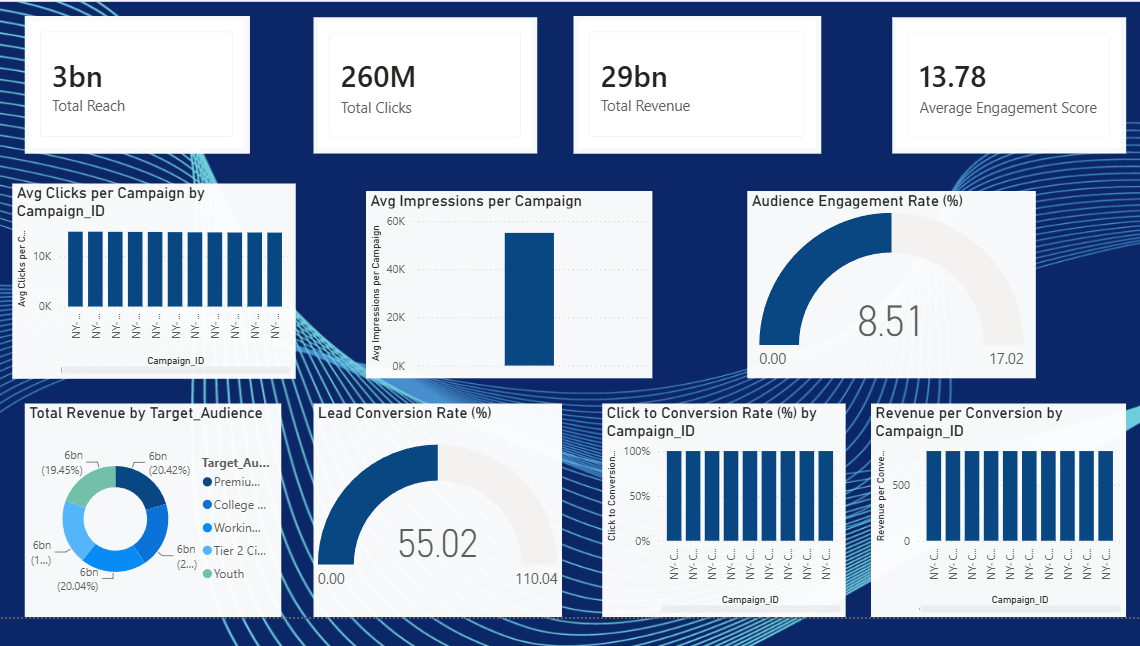

The dashboard page shown, as its layout file describes it:
{"tool":"powerbi","page":{"name":"platform dashboard","canvas":[1280,720],"ordinal":2},"visuals":[{"type":"cardVisual","fields":{"Data":["nykaa_campaign_data.Total Reach"]},"box":[37,60.4,247,150.9],"z":0},{"type":"cardVisual","fields":{"Data":["nykaa_campaign_data.Total Clicks"]},"box":[354,61.7,245.6,149.6],"z":1000},{"type":"cardVisual","fields":{"Data":["nykaa_campaign_data.Total Revenue"]},"box":[639.5,60.4,271.7,150.9],"z":2000},{"type":"cardVisual","fields":{"Data":["nykaa_campaign_data.Average Engagement Score"]},"box":[989.4,61.7,256.6,149.6],"z":3000},{"type":"clusteredColumnChart","fields":{"Category":["nykaa_campaign_data.Campaign_ID"],"Y":["nykaa_campaign_data.Avg Clicks per Campaign"]},"box":[23.3,244.3,311.5,214.1],"z":5000},{"type":"clusteredColumnChart","fields":{"Y":["nykaa_campaign_data.Avg Impressions per Campaign"]},"box":[411.7,252.5,314.2,205.8],"z":6000},{"type":"gauge","fields":{"Y":["nykaa_campaign_data.Audience Engagement Rate (%)"]},"box":[830.2,252.5,317,205.8],"z":7000},{"type":"donutChart","fields":{"Category":["nykaa_campaign_data.Target_Audience"],"Y":["nykaa_campaign_data.Total Revenue"]},"box":[37,485.8,281.3,234.6],"z":8000},{"type":"gauge","fields":{"Y":["nykaa_campaign_data.Lead Conversion Rate (%)"]},"box":[354,485.8,273.1,234.6],"z":9000},{"type":"hundredPercentStackedColumnChart","fields":{"Y":["nykaa_campaign_data.Click to Conversion Rate (%)"],"Category":["nykaa_campaign_data.Campaign_ID"]},"box":[671,485.8,267.6,234.6],"z":10000},{"type":"clusteredColumnChart","fields":{"Y":["nykaa_campaign_data.Revenue per Conversion"],"Category":["nykaa_campaign_data.Campaign_ID"]},"box":[966,485.8,279.9,234.6],"z":11000}]}

Visuals, with their boxes in screenshot pixels (x1, y1, x2, y2), scaled from the page's 1280x720 canvas onto the 1140x646 screenshot:
cardVisual - nykaa_campaign_data.Total Reach: [left=33, top=54, right=253, bottom=190]
cardVisual - nykaa_campaign_data.Total Clicks: [left=315, top=55, right=534, bottom=190]
cardVisual - nykaa_campaign_data.Total Revenue: [left=570, top=54, right=812, bottom=190]
cardVisual - nykaa_campaign_data.Average Engagement Score: [left=881, top=55, right=1110, bottom=190]
clusteredColumnChart - nykaa_campaign_data.Campaign_ID x nykaa_campaign_data.Avg Clicks per Campaign: [left=21, top=219, right=298, bottom=411]
clusteredColumnChart - nykaa_campaign_data.Avg Impressions per Campaign: [left=367, top=227, right=647, bottom=411]
gauge - nykaa_campaign_data.Audience Engagement Rate (%): [left=739, top=227, right=1022, bottom=411]
donutChart - nykaa_campaign_data.Target_Audience x nykaa_campaign_data.Total Revenue: [left=33, top=436, right=283, bottom=645]
gauge - nykaa_campaign_data.Lead Conversion Rate (%): [left=315, top=436, right=559, bottom=645]
hundredPercentStackedColumnChart - nykaa_campaign_data.Click to Conversion Rate (%) x nykaa_campaign_data.Campaign_ID: [left=598, top=436, right=836, bottom=645]
clusteredColumnChart - nykaa_campaign_data.Revenue per Conversion x nykaa_campaign_data.Campaign_ID: [left=860, top=436, right=1110, bottom=645]
